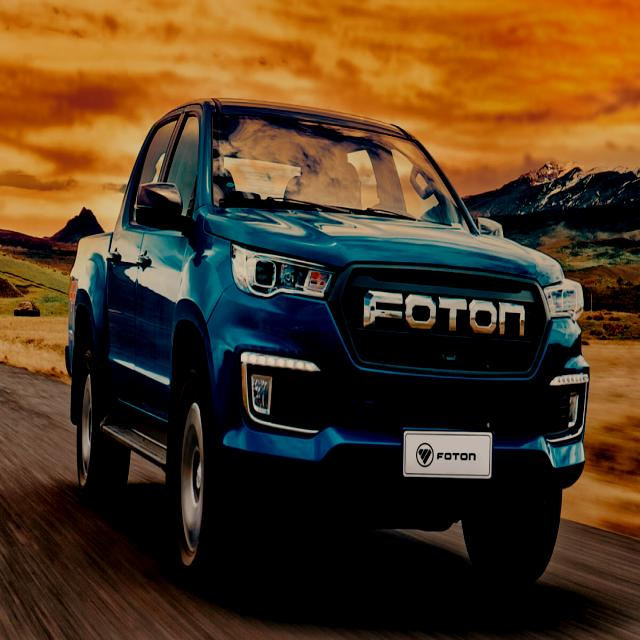CMT: (61, 98, 585, 612)
